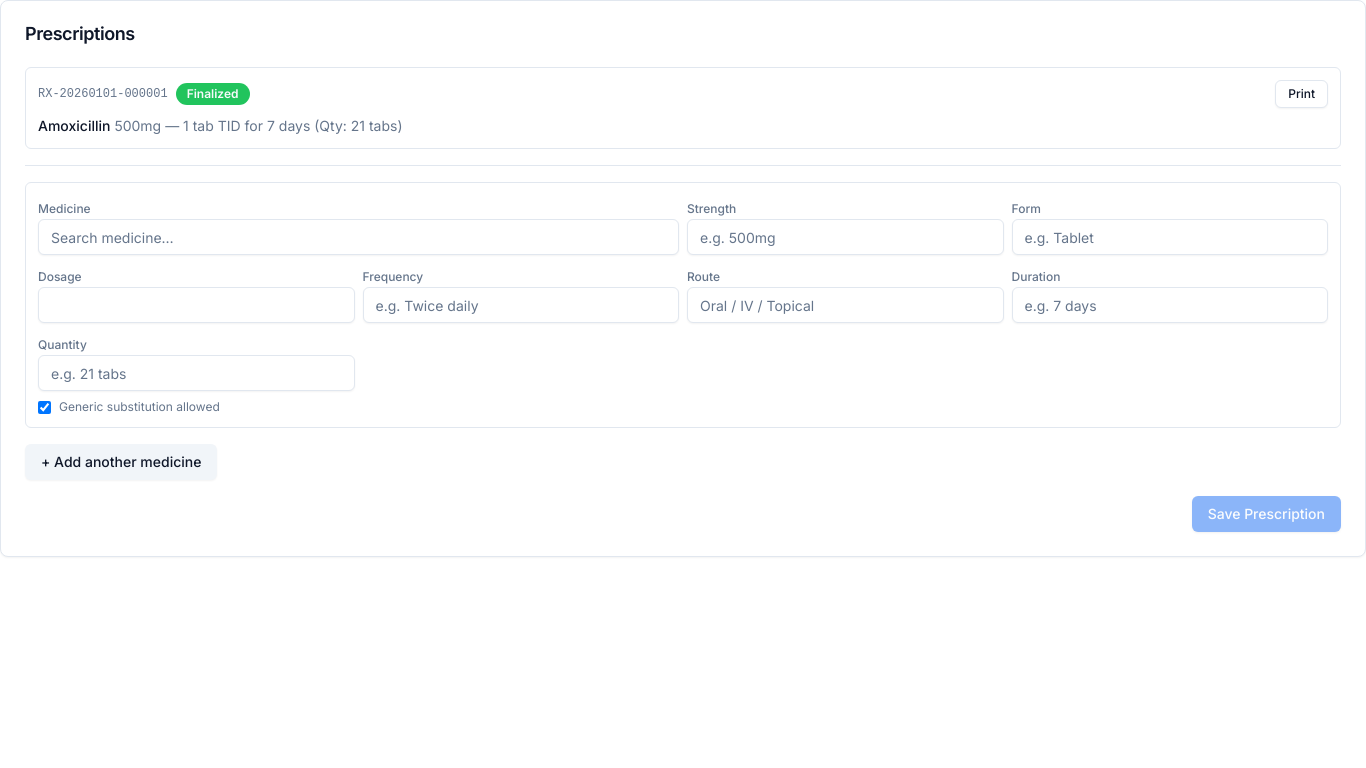
Test: PrescriptionTab - searchable dropdowns/autocomplete (Task #8) › 6: Dosage shows suggestions from the shared vocabulary, without restricting free text
What coordinates should you click on to do the following:
click the 4th field
I would click on:
 (196, 305)
Its box is [38,287,354,323].
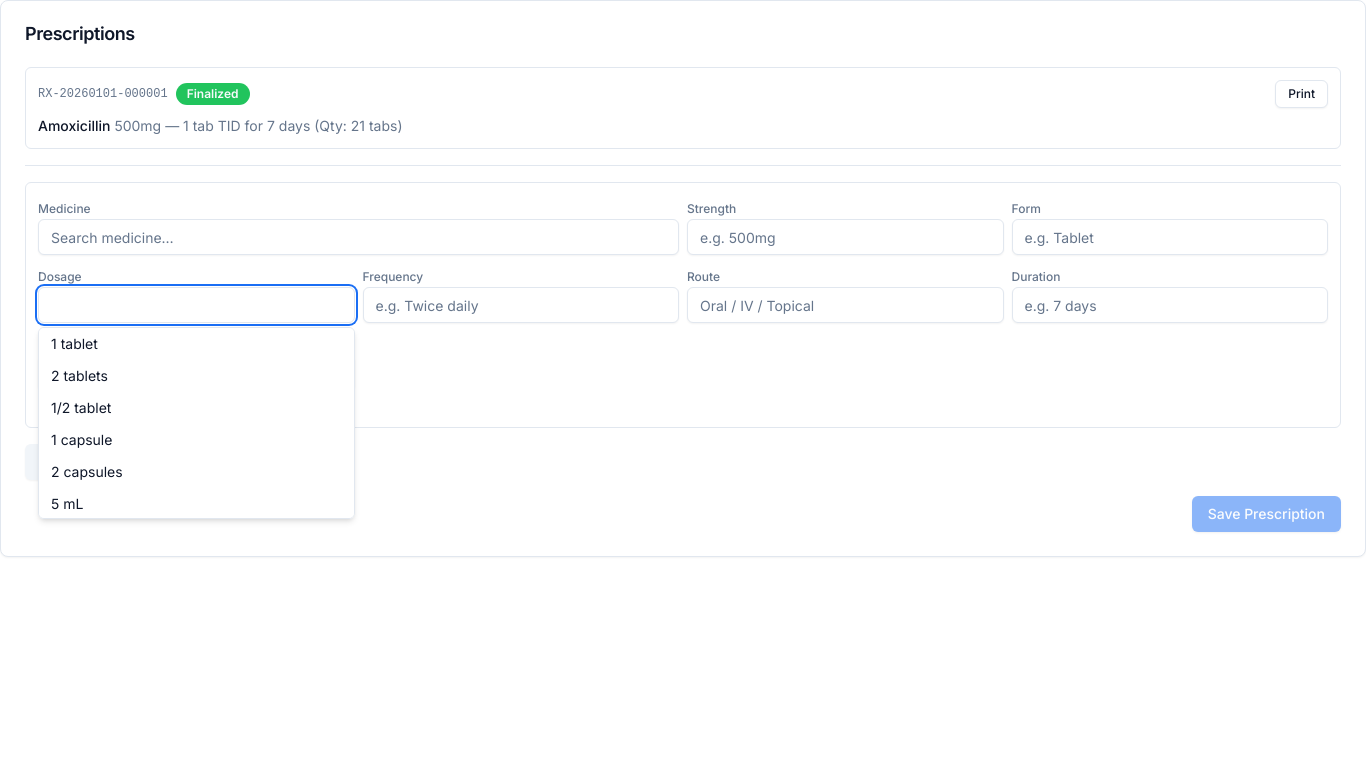
Check: the button "1 tablet" is shown, box [39,328,354,360]
